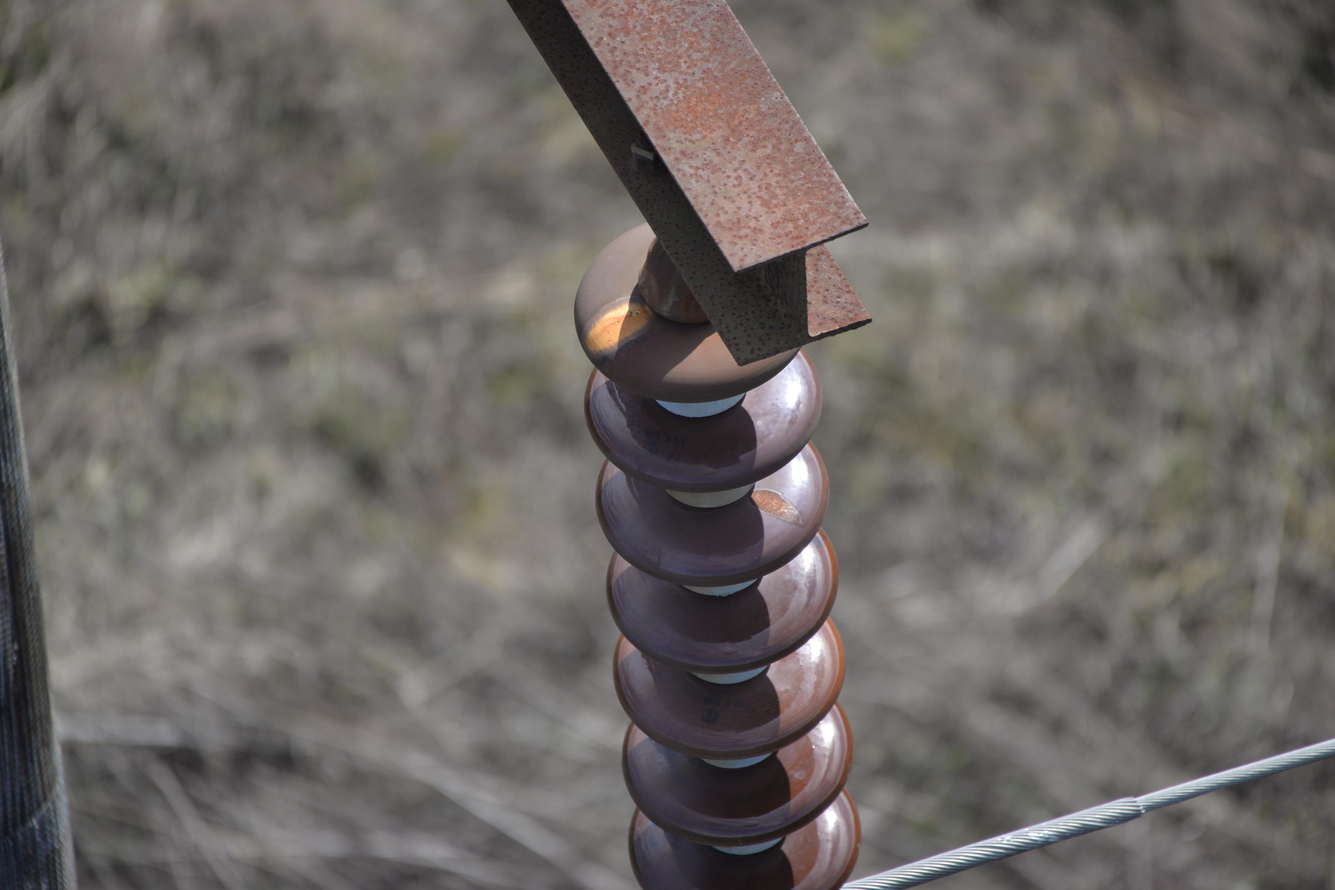Flashover: (580, 296, 655, 359), (749, 485, 812, 537)
insulator: (573, 221, 866, 890)
